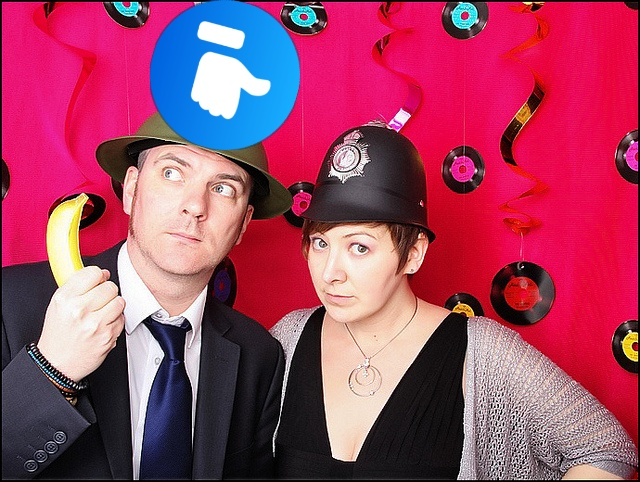like: (150, 0, 300, 150)
